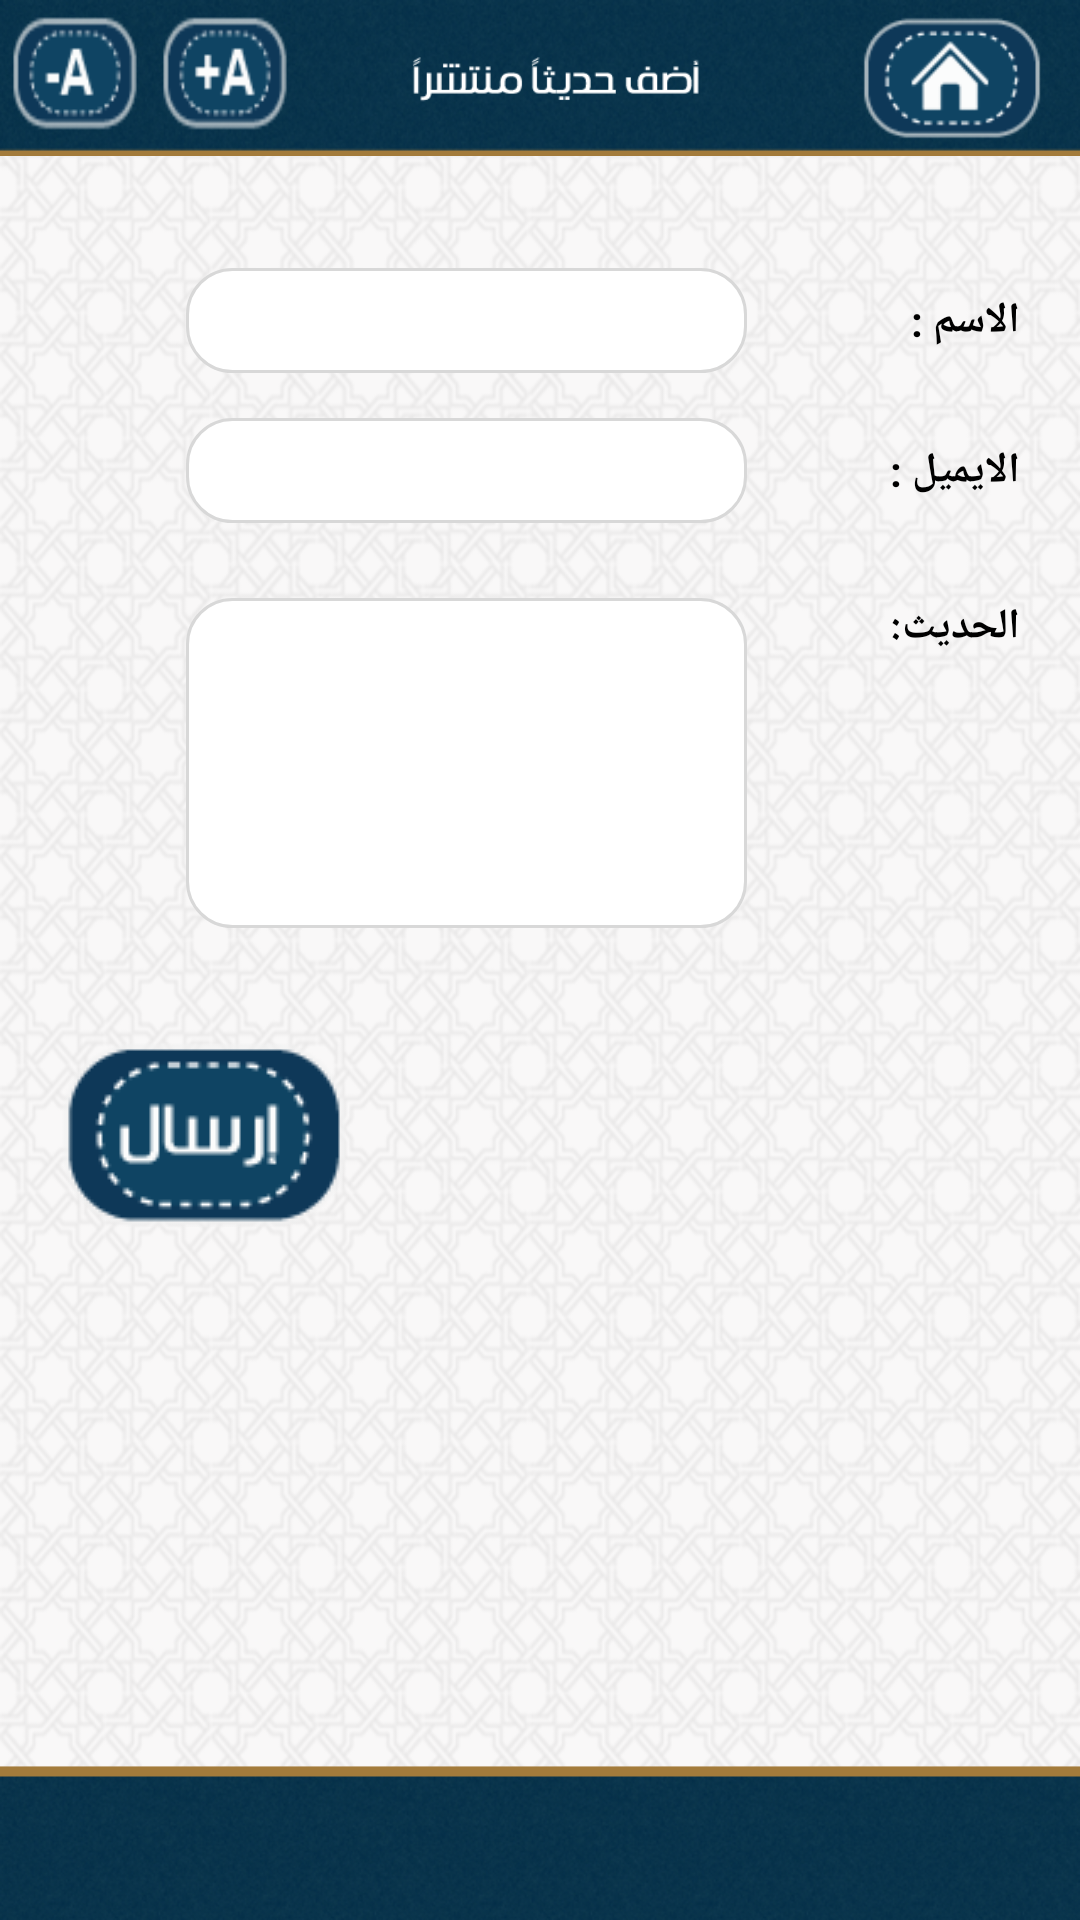

Icon bounding boxes for this 1080px x 1920px phone screenshot, format [left=x1, top=y1, right=x2, bottom=y2]:
home: [left=863, top=17, right=1041, bottom=139]
